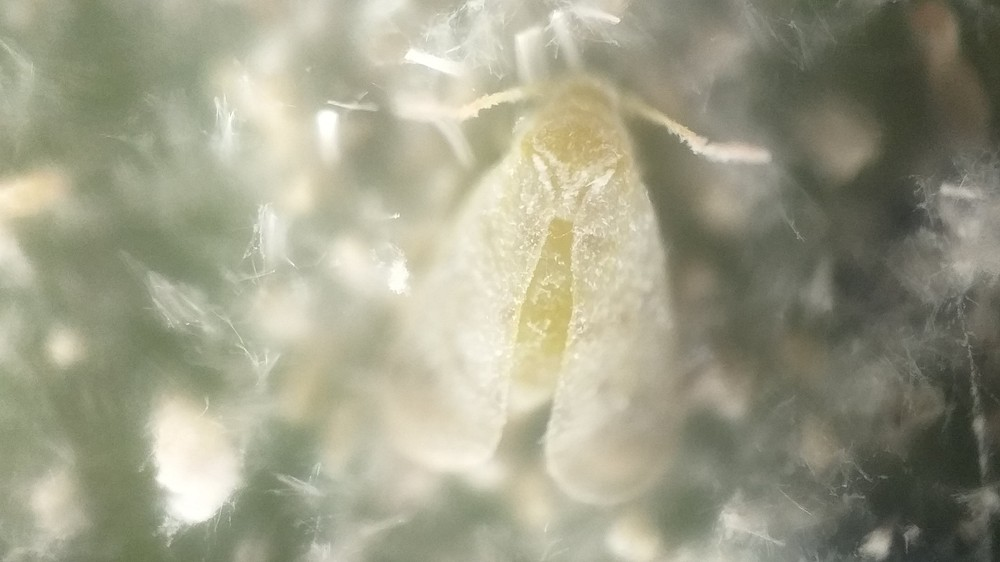Mosca Blanca: (378, 63, 799, 520)
